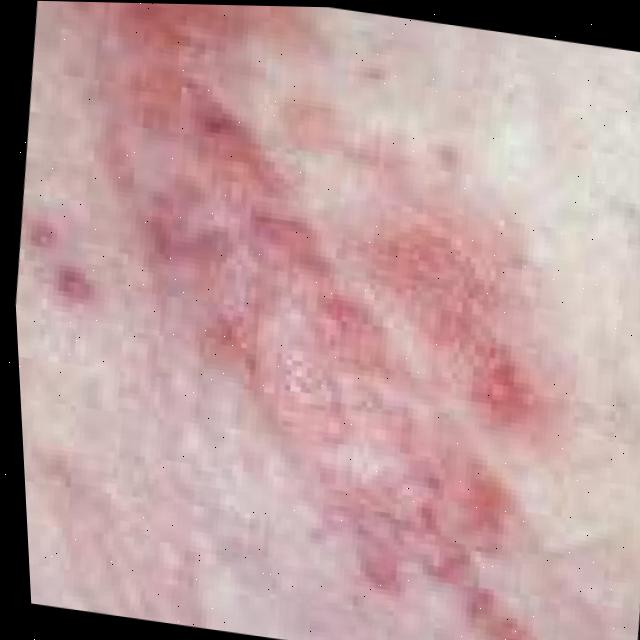Shingles: (0, 0, 594, 624)
